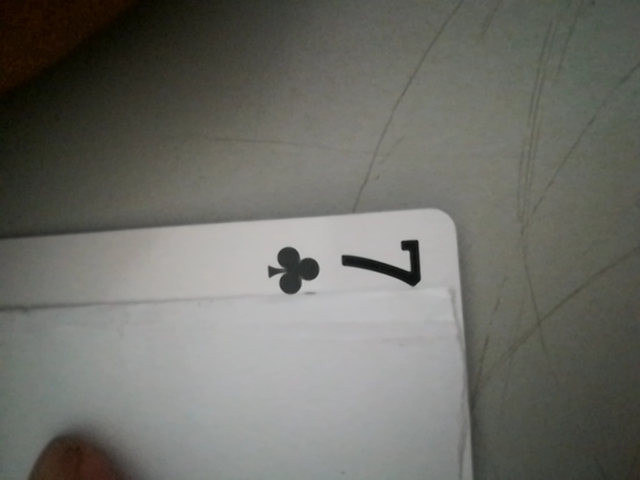mh 7: (249, 226, 437, 301)
